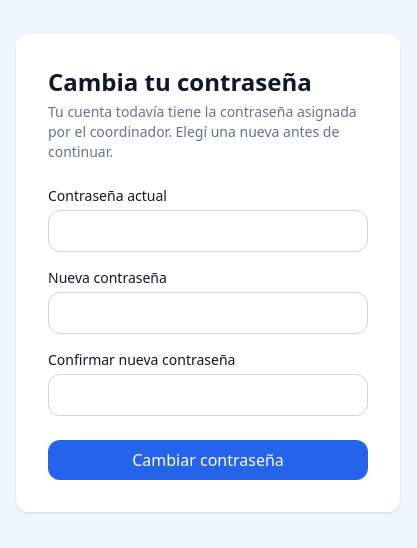
Test case: ChangePasswordPage › rechaza si las contraseñas nuevas no coinciden
Type "actual123" into the password field labelled "Contraseña actual" at {"x": 208, "y": 231}, box [48,210,368,252]
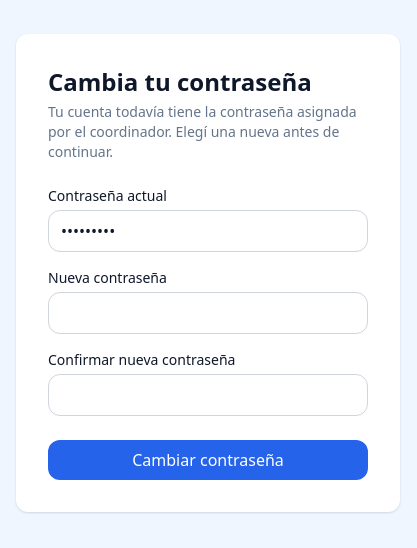
Type "nueva123" into the password field labelled "Nueva contraseña" at {"x": 208, "y": 313}, box [48,292,368,334]
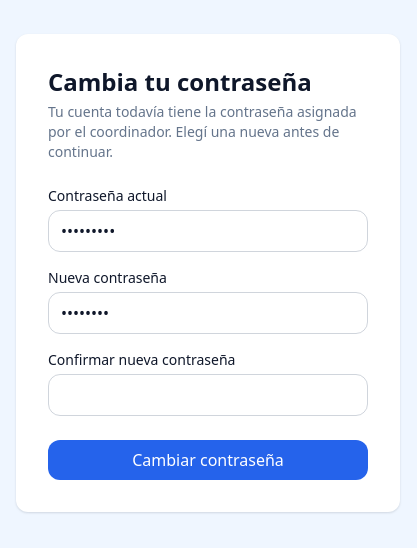
Type "otra456" into the password field labelled "Confirmar nueva contraseña" at {"x": 208, "y": 395}, box [48,374,368,416]
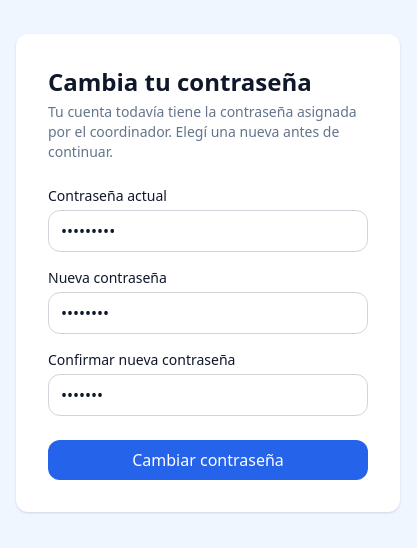
Click the button "Cambiar contraseña" at {"x": 208, "y": 460}, box [48,440,368,480]
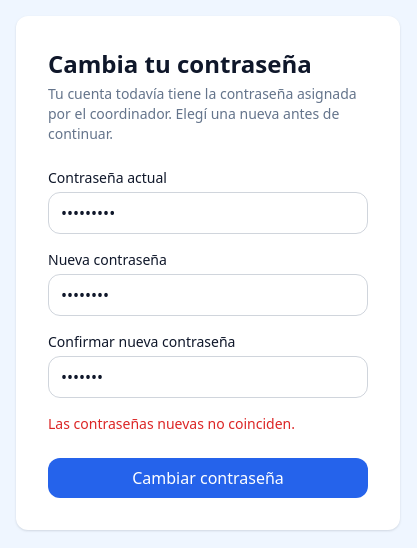
Now the message reads "Las contraseñas nuevas no coinciden.", box [48,414,295,433]
